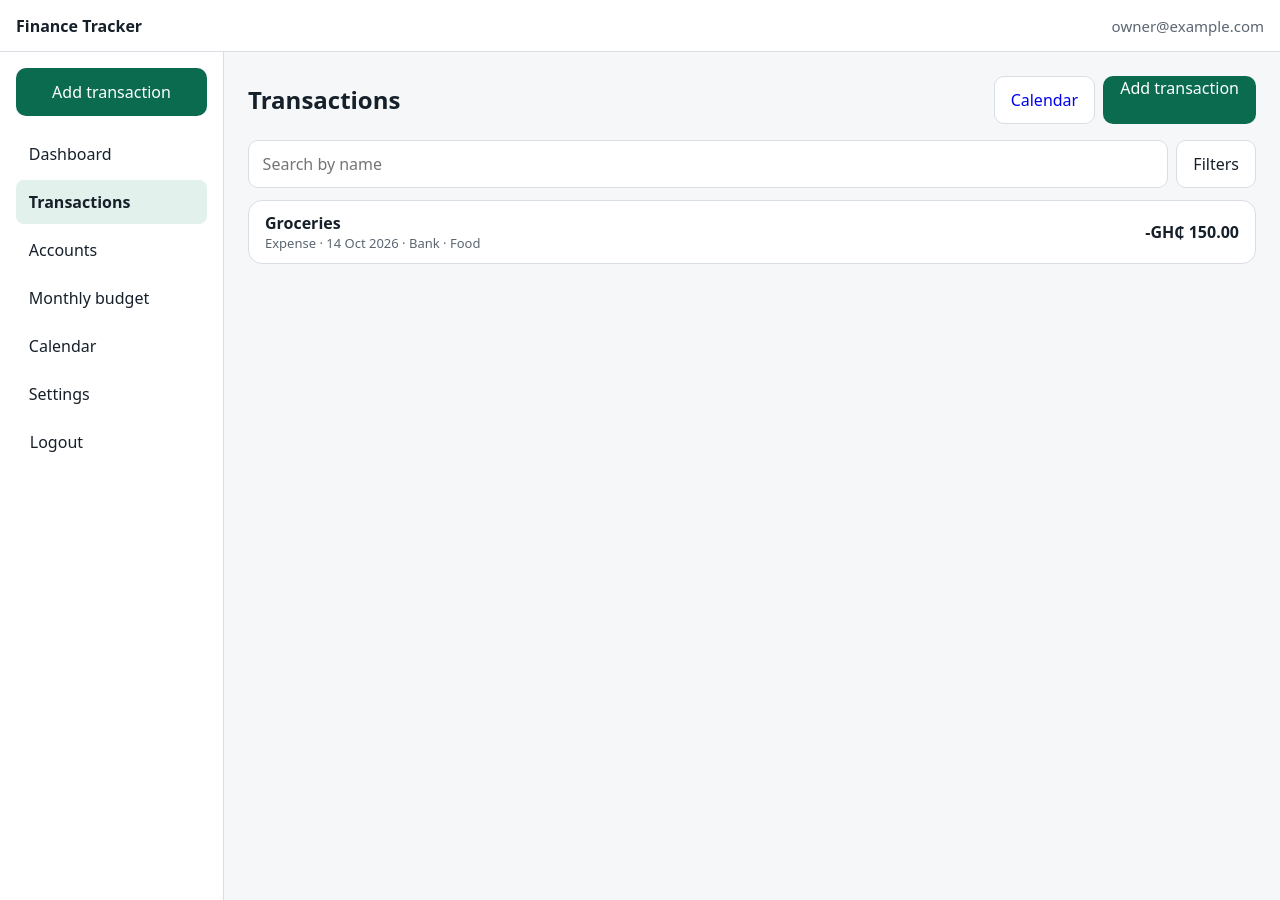
Test case: history list › opens the detail screen when a row is tapped
Click the link "Groceries Expense · 14 Oct 2026 · Bank · Food -GH₵ 150.00" at (303, 223), box [248,200,1256,264]
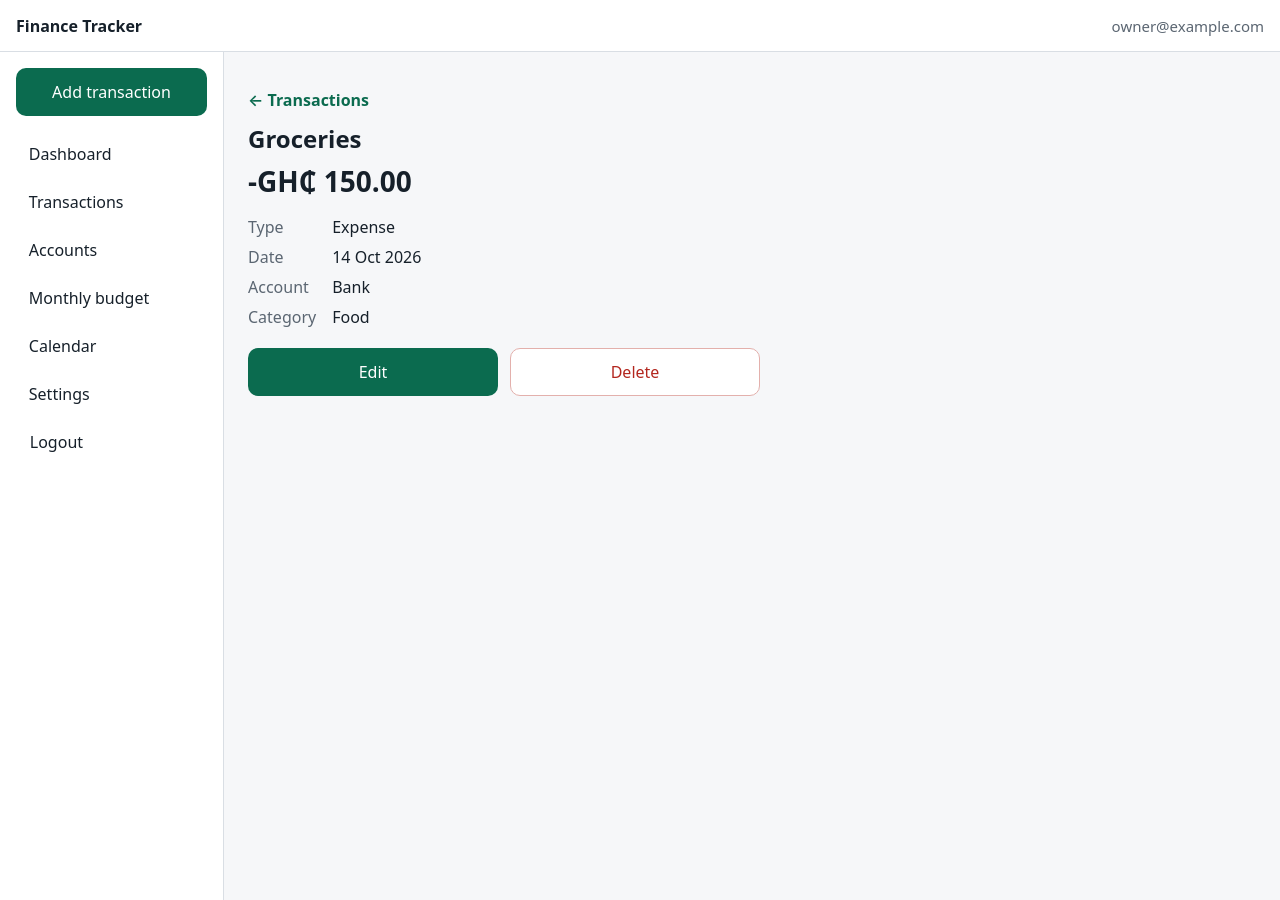
Expected: the heading "Groceries" is shown, [248,122,362,155]
